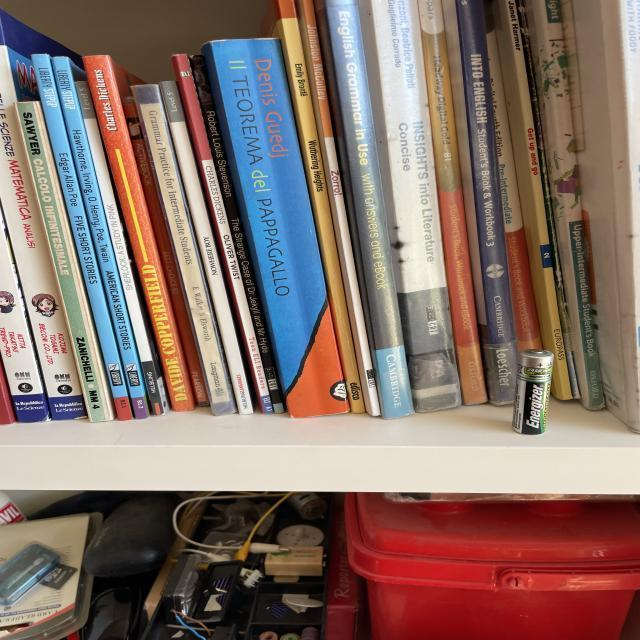Hazard: (508, 348, 563, 438)
